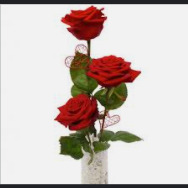RedRose: (60, 3, 108, 43), (81, 53, 142, 84), (56, 95, 103, 131)
